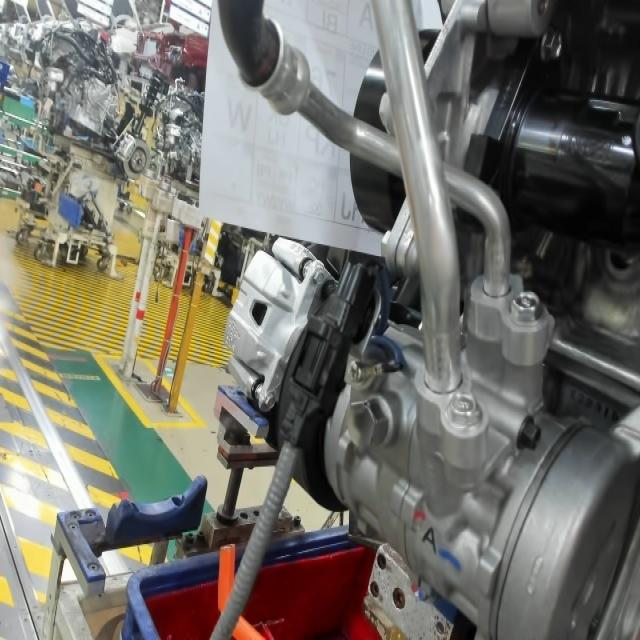Compressor-A: (418, 519, 442, 559)
